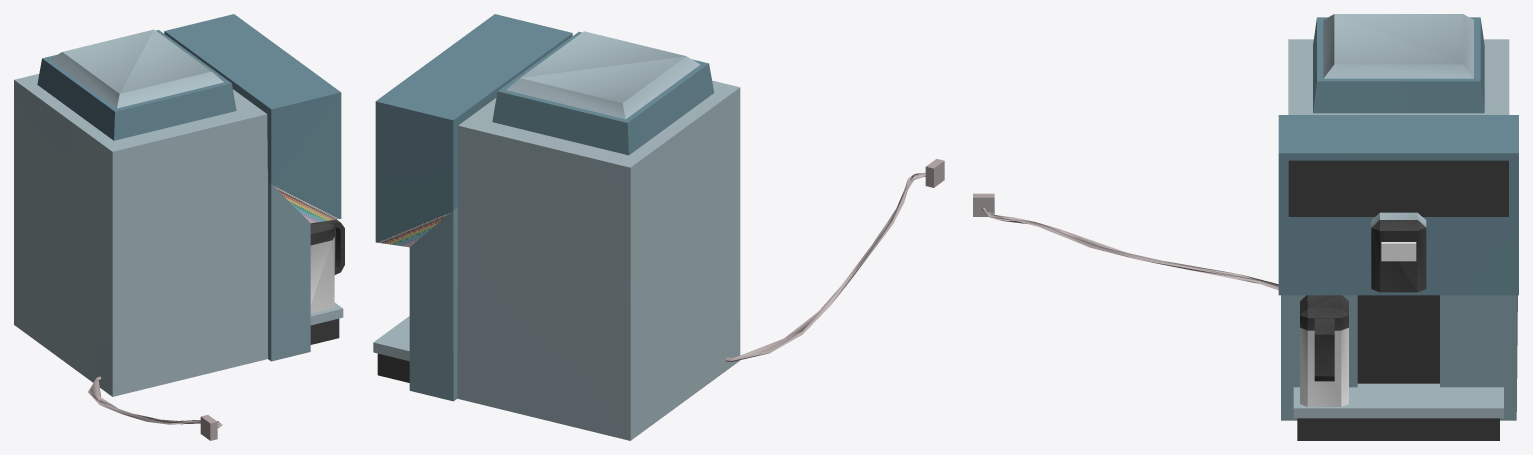
Rendered from coffee_machine_v1.fbx.
3 views of the same model, side by side, from view 1: azimuth 30°, elevation 25°; view 2: azimuth 150°, elevation 25°; view 3: azimuth 270°, elevation 25° (orthographic). The views are drawn at different scales.
Visible parts, largest first — view 1: coffee_machine_001; view 2: coffee_machine_001; view 3: coffee_machine_001.
Boxes of the visible parts, x1,y1,x2,y2 form: coffee_machine_001: (14, 14, 344, 440); coffee_machine_001: (373, 14, 944, 440); coffee_machine_001: (973, 14, 1518, 440).
Bounding box in the file's own units: 81.95 × 76.21 × 119.
1 material, 1 textured.
